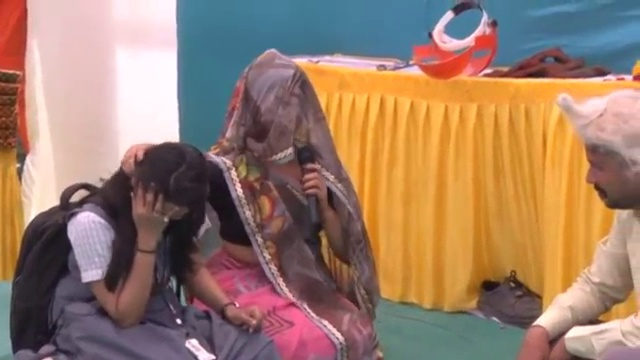helmet_off: (234, 50, 330, 166), (561, 85, 640, 220), (125, 140, 214, 238)
person: (200, 54, 386, 360), (7, 140, 215, 360), (516, 85, 637, 359)
